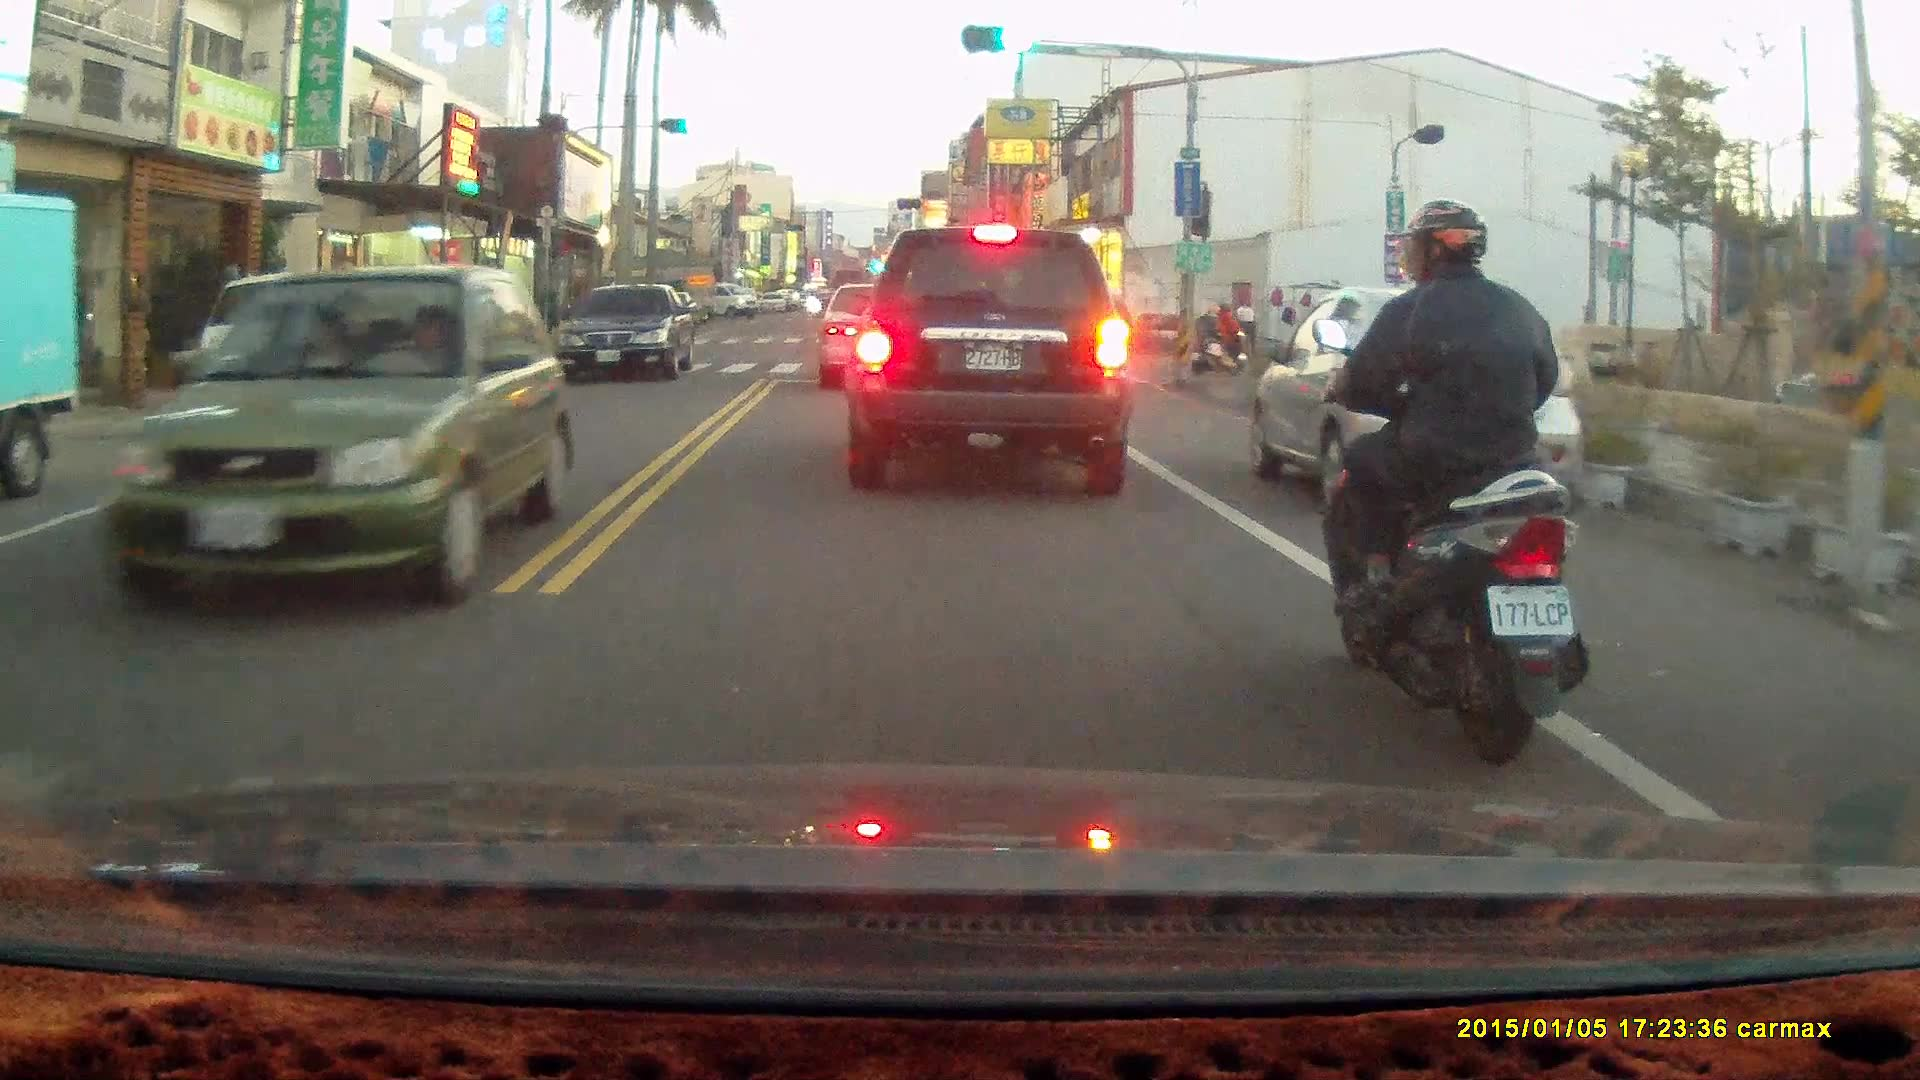pedestrian: (1231, 295, 1257, 362)
rider: (1313, 199, 1592, 771), (1188, 294, 1246, 374)
vehicle: (102, 263, 558, 619), (1243, 289, 1592, 537), (849, 223, 1134, 499), (1, 191, 84, 502), (560, 283, 700, 386), (818, 283, 939, 396)
